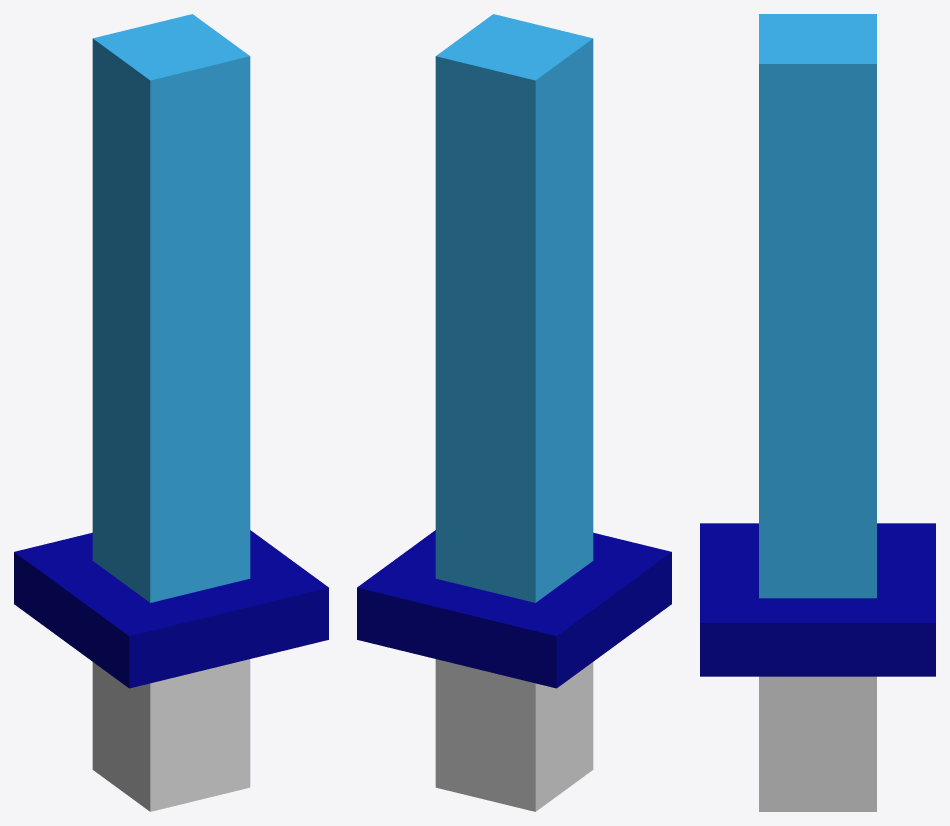
The model's file is Weapon.fbx.
The picture shows the model from 3 angles, left to right: view 1: azimuth 30°, elevation 25°; view 2: azimuth 150°, elevation 25°; view 3: azimuth 270°, elevation 25°; orthographic projection. The views are drawn at different scales.
Parts seen in each view (by area): view 1: Matrix; view 2: Matrix; view 3: Matrix.
Part boxes in pixels (x1,y1,x2,y2): Matrix: [14, 14, 328, 811]; Matrix: [357, 14, 671, 811]; Matrix: [700, 14, 935, 811].
Size of the model in its own units: 4 by 14 by 4.
1 material, 1 textured.
